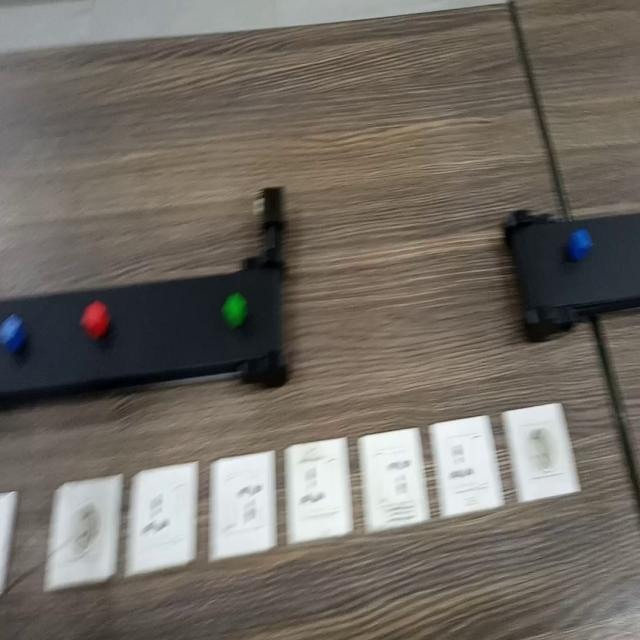cube: (218, 287, 255, 334), (80, 297, 113, 345), (0, 305, 28, 360), (567, 223, 598, 265)
